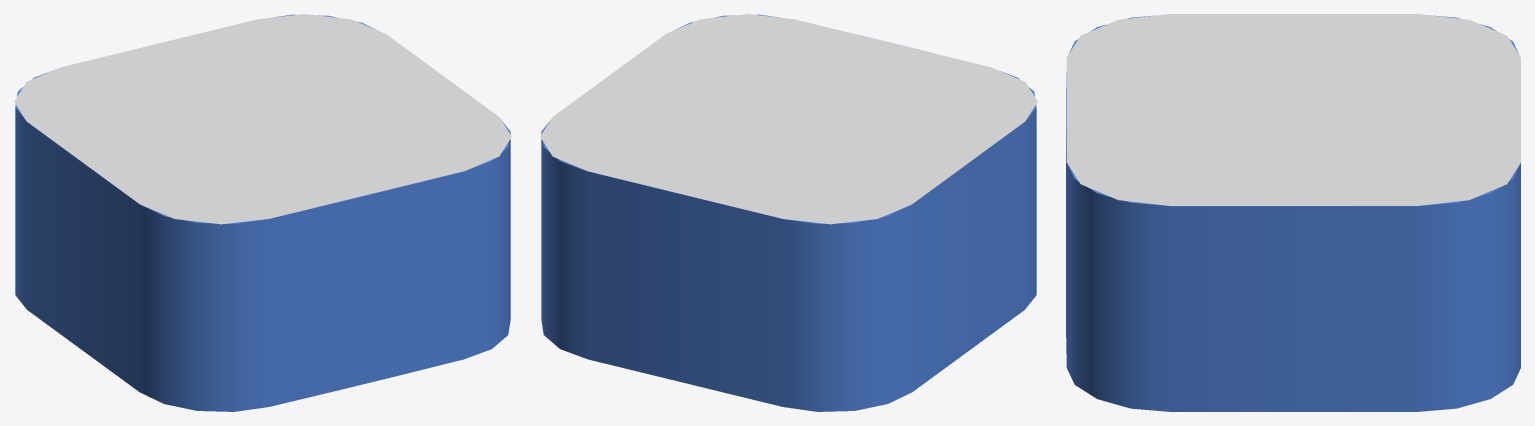
File: conveyor3 1.fbx
The picture shows the model from 3 angles, left to right: view 1: azimuth 30°, elevation 25°; view 2: azimuth 150°, elevation 25°; view 3: azimuth 270°, elevation 25°; orthographic projection. The views are drawn at different scales.
Parts seen in each view (by area): view 1: Base, Plane; view 2: Base, Plane; view 3: Base, Plane.
Boxes of the visible parts, box(x1,y1,x2,y2) form: Base: box(15, 14, 510, 411); Plane: box(14, 14, 511, 224); Base: box(541, 14, 1036, 411); Plane: box(540, 14, 1037, 224); Base: box(1066, 15, 1520, 411); Plane: box(1066, 14, 1520, 205).
Bounding box in the file's own units: 100 × 50.06 × 100.
